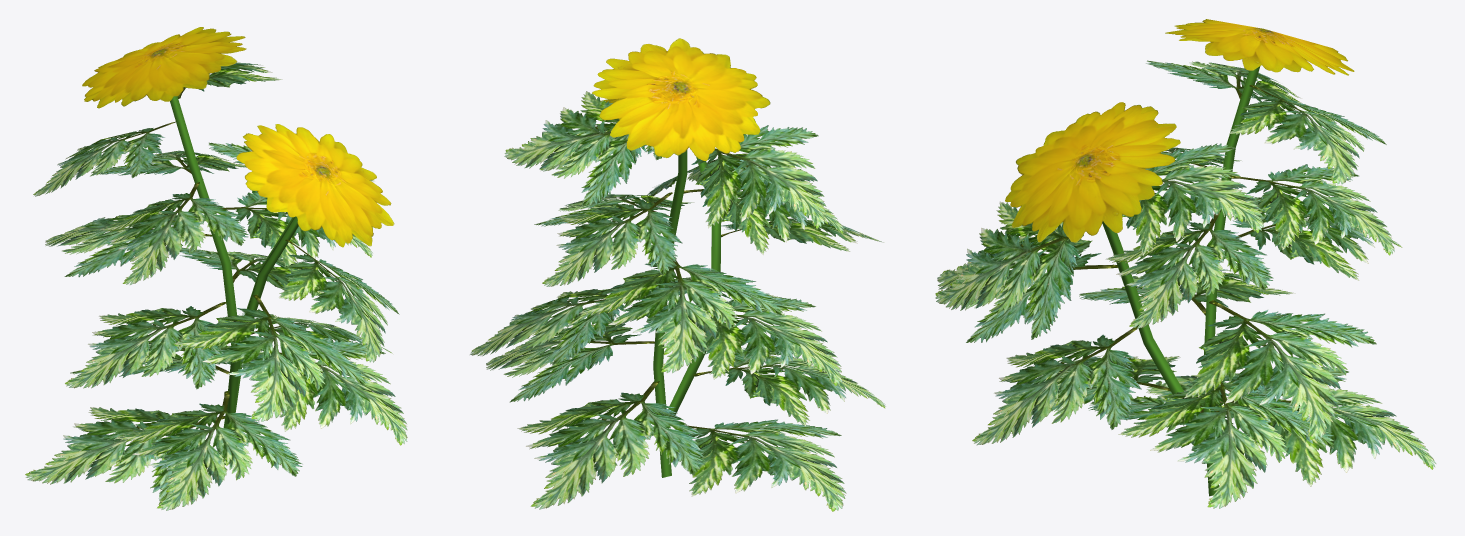
The model's file is m_flower04.fbx.
The picture shows the model from 3 angles, left to right: view 1: azimuth 30°, elevation 25°; view 2: azimuth 150°, elevation 25°; view 3: azimuth 270°, elevation 25°; orthographic projection. The views are drawn at different scales.
Visible parts, largest first — view 1: mesh_flower04; view 2: mesh_flower04; view 3: mesh_flower04.
Boxes of the visible parts, bbox=[...] form: mesh_flower04: bbox=[25, 27, 407, 510]; mesh_flower04: bbox=[470, 38, 885, 511]; mesh_flower04: bbox=[935, 19, 1436, 508].
Bounding box in the file's own units: 0.2095 × 0.2235 × 0.2313.
Materials: 1 (1 with a texture image).
